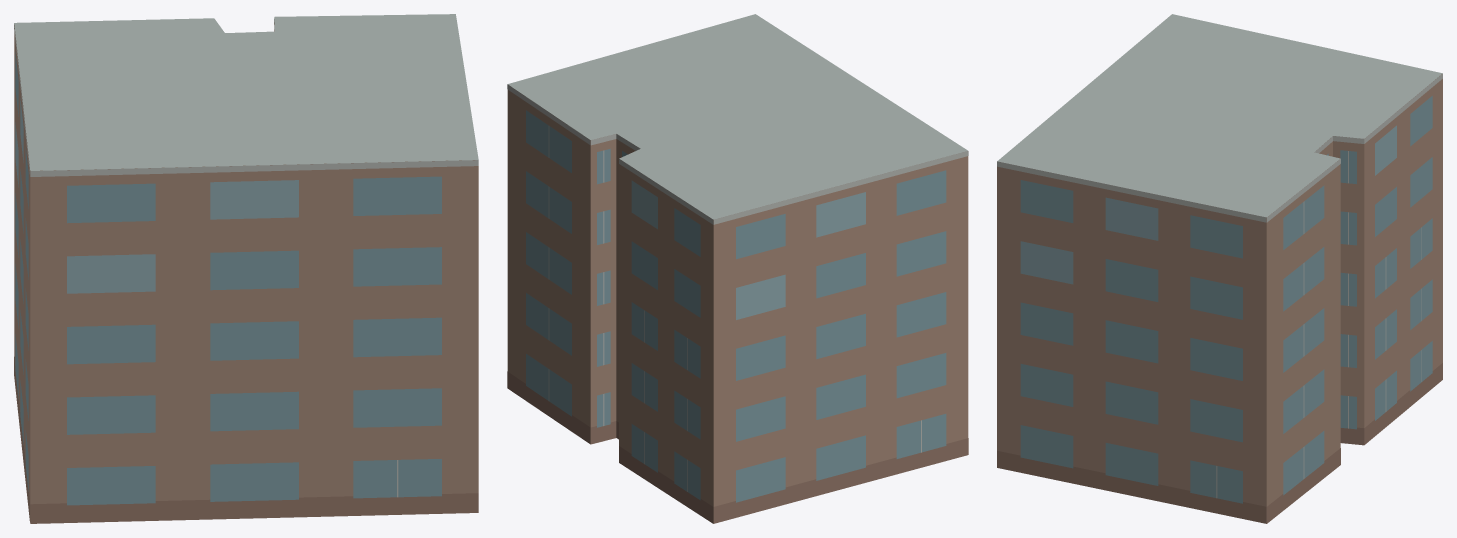
File: survey-upis-32886585.glb
3 views of the same model, side by side, from view 1: azimuth 30°, elevation 25°; view 2: azimuth 150°, elevation 25°; view 3: azimuth 270°, elevation 25° (orthographic). The views are drawn at different scales.
Visible parts, largest first — view 1: survey-upis-32886585.tmp; view 2: survey-upis-32886585.tmp; view 3: survey-upis-32886585.tmp.
Part boxes in pixels (x1=…): survey-upis-32886585.tmp: x1=14, y1=14, x2=478, y2=523; survey-upis-32886585.tmp: x1=507, y1=14, x2=968, y2=523; survey-upis-32886585.tmp: x1=997, y1=14, x2=1442, y2=523.
Size of the model in its own units: 20.23 by 14.2 by 18.73.
